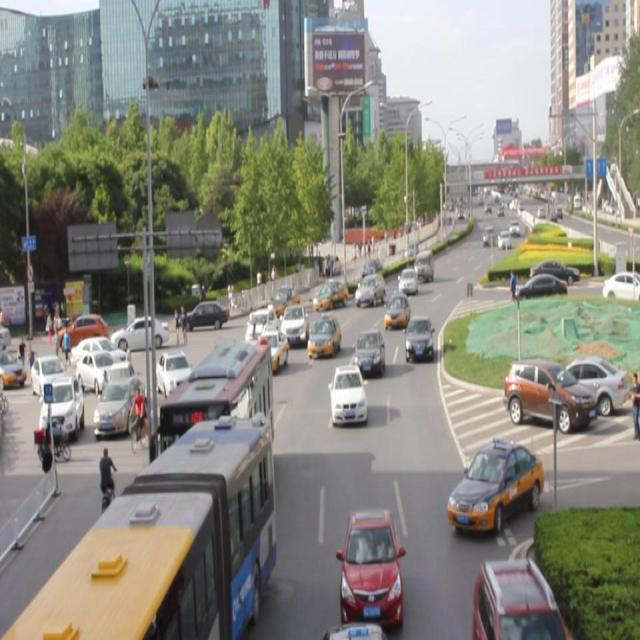car: (445, 436, 542, 532), (469, 558, 564, 640), (337, 506, 401, 618), (327, 365, 366, 426), (211, 345, 245, 395), (178, 299, 229, 332), (277, 303, 312, 351), (248, 334, 288, 376), (351, 329, 384, 377), (306, 315, 341, 359), (244, 308, 279, 351), (402, 314, 432, 363), (311, 279, 348, 315), (320, 620, 381, 640), (383, 291, 410, 329), (353, 274, 385, 306), (396, 266, 416, 298)
truck: (412, 249, 434, 284)
van: (1, 416, 273, 640), (163, 347, 275, 513)
